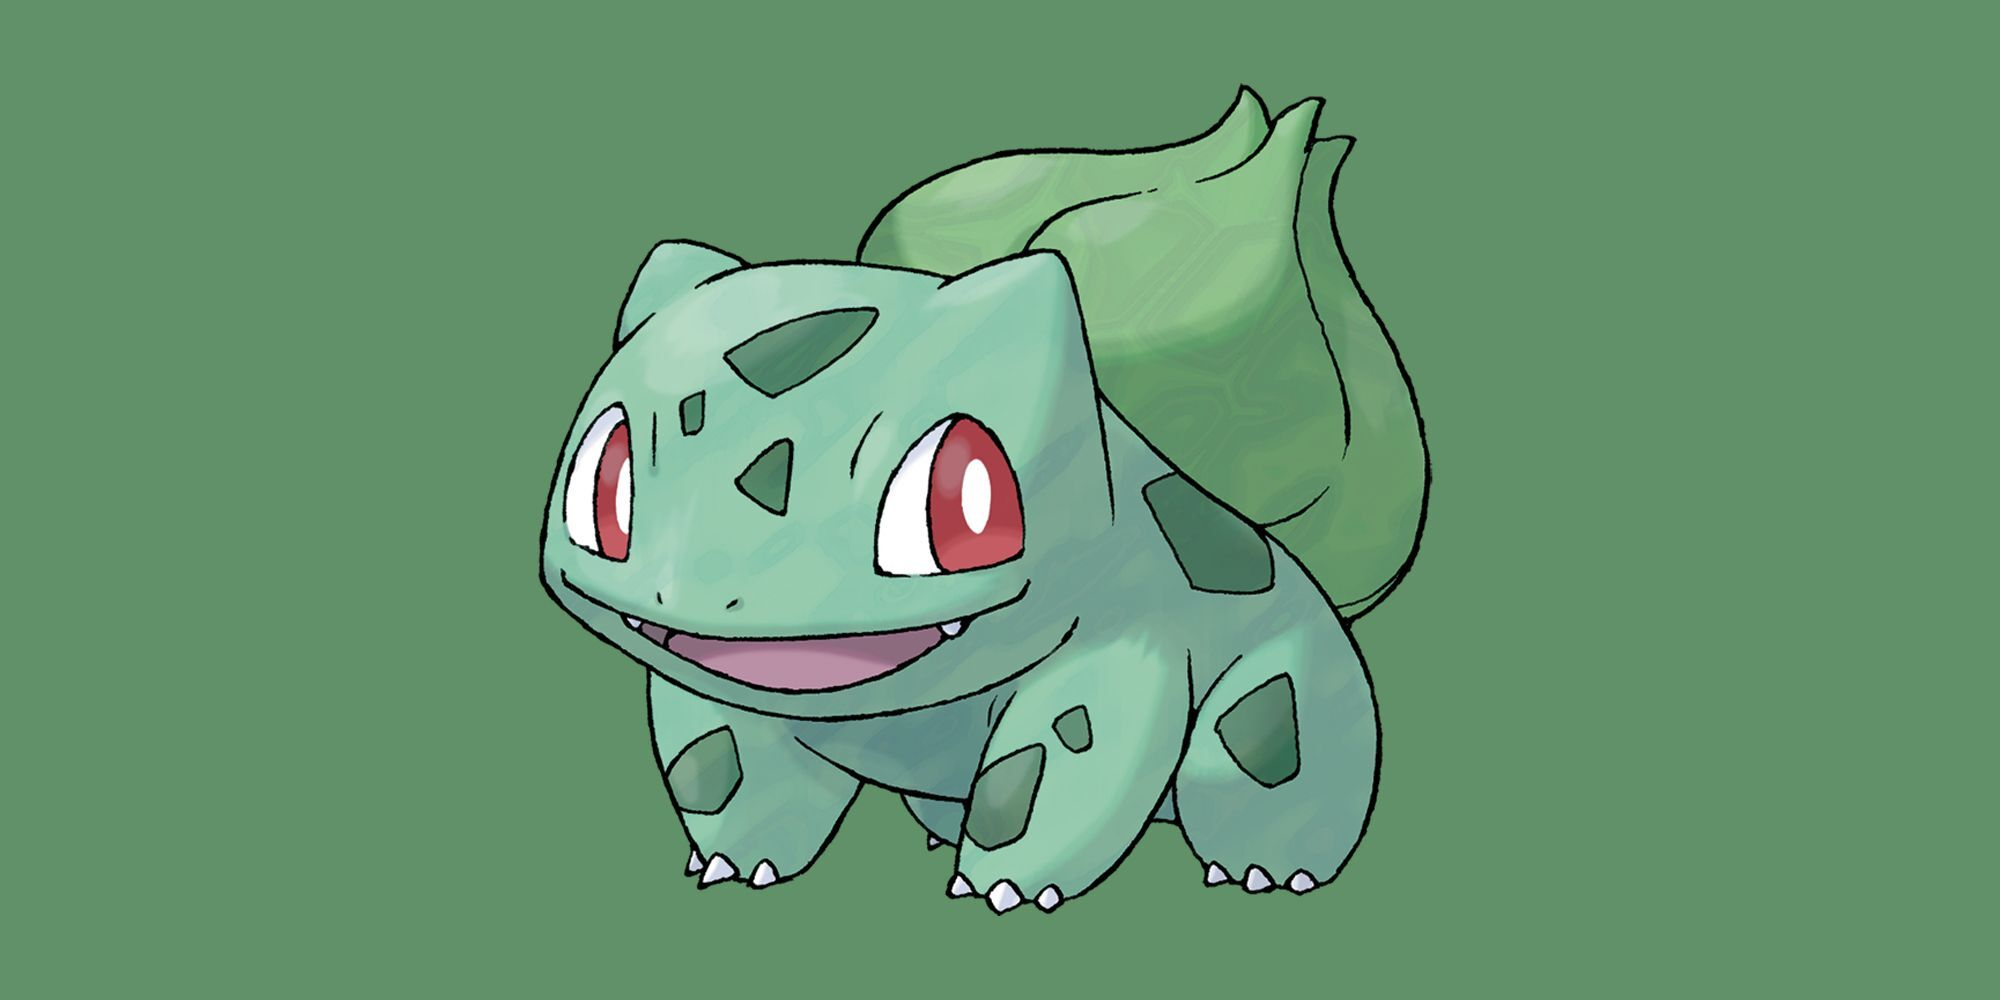001-bulbasaur: (514, 78, 1476, 920)
